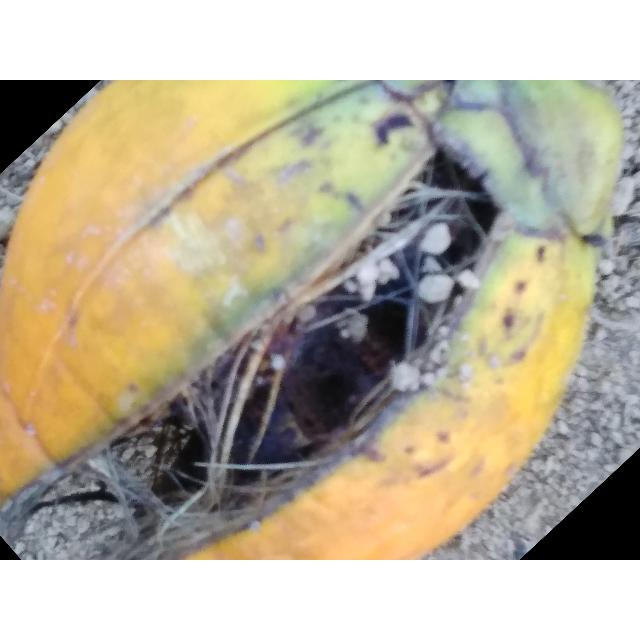damaged: (0, 80, 636, 560)
